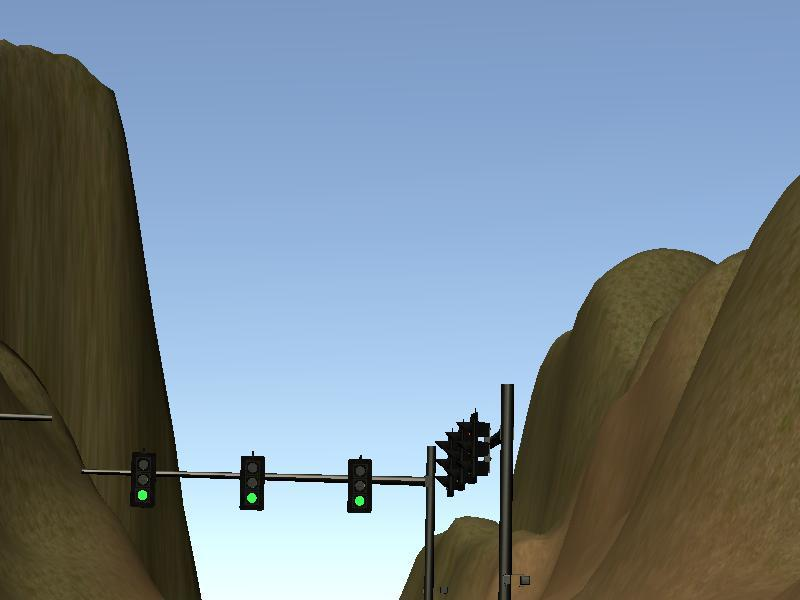Green: (347, 458, 372, 513), (240, 455, 265, 510), (129, 451, 154, 506)
